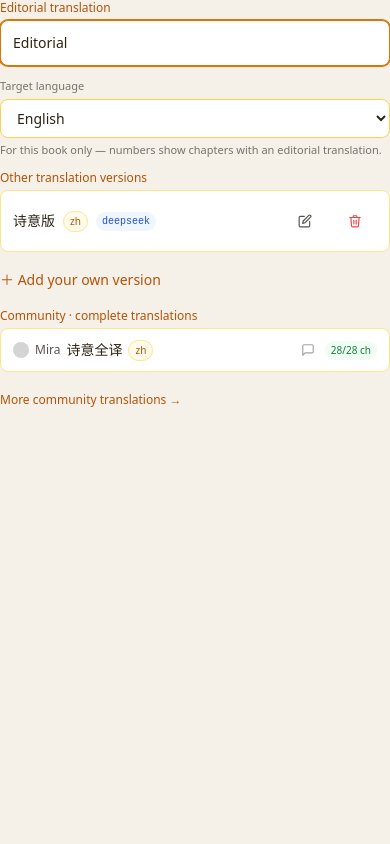
Test: the sidebar shows the top few; More opens a searchable, paged dialog
Step 1. Click the button "More community translations →" → [91, 400], box [0,378,182,422]
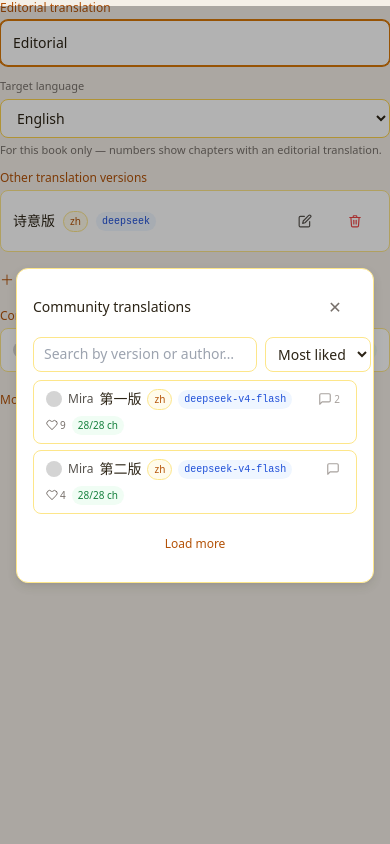
Expected: the element with test id "community-browse" shows "第一版", [33,380,357,444]
Expected: the element with test id "community-browse" shows "9", [33,380,357,444]
Load more appends the next page
Step 2. Click the button "Load more" → [195, 544], box [33,522,357,566]
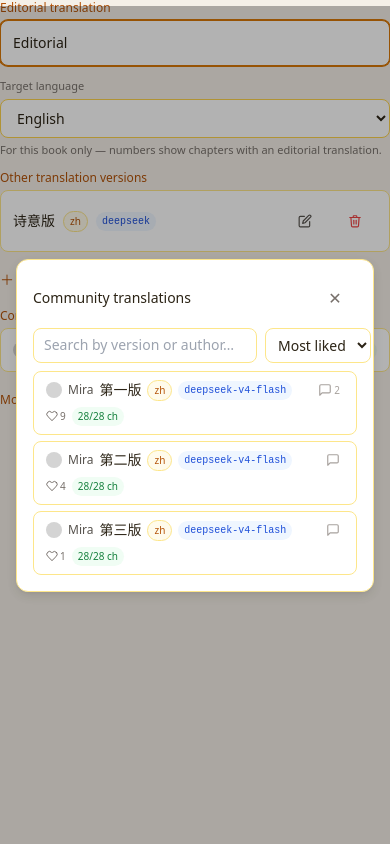
Expected: the element with test id "community-browse" shows "第三版", [33,510,357,574]
Selecting from the dialog picks the version and closes it
Step 3. Click the radio button labelled "Mira 第一版 zh deepseek-v4-flash 2 9 28/28 ch" → [195, 402], box [33,370,357,434]
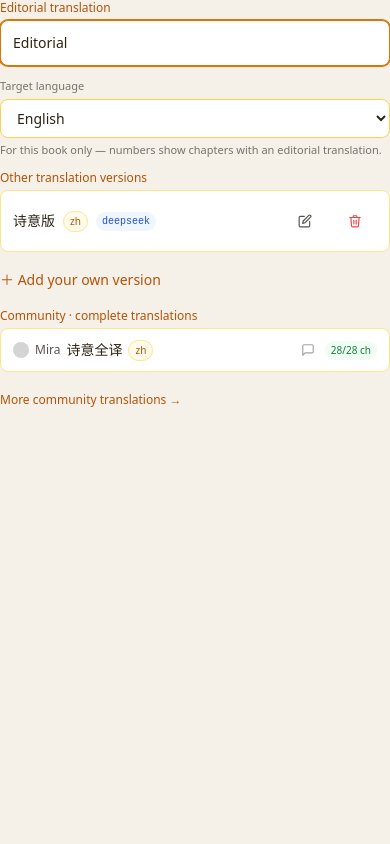
Expected: the element with test id "community-browse" is gone
